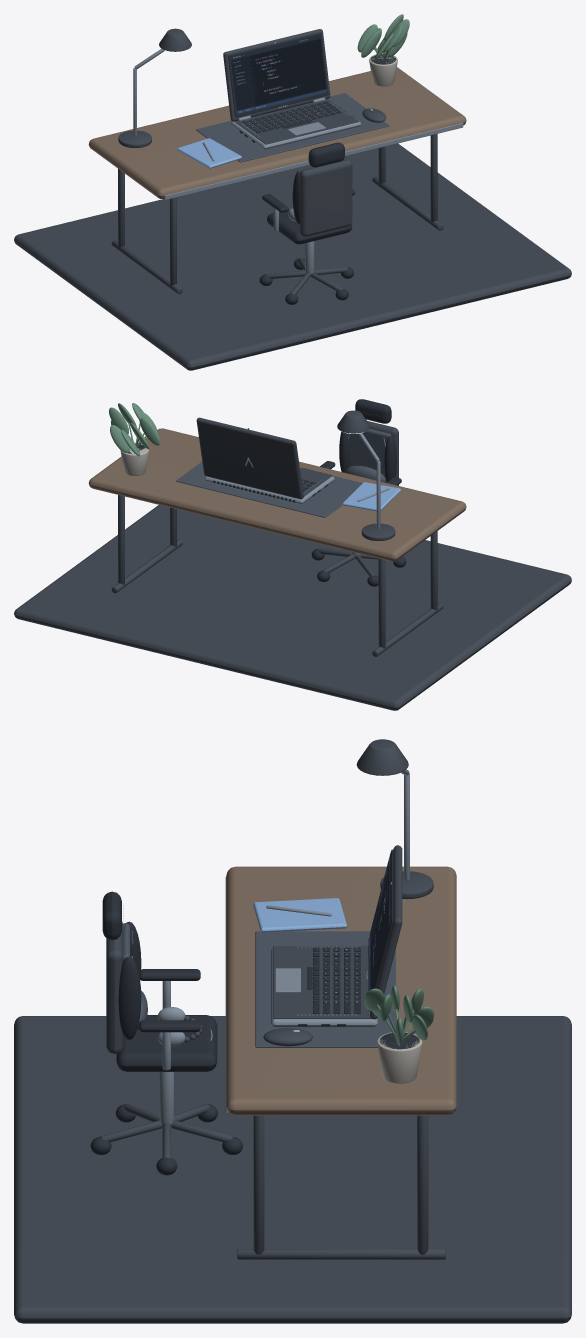
Rendered from hero-workspace.glb.
3 views of the same model, one above another, from view 1: azimuth 30°, elevation 25°; view 2: azimuth 150°, elevation 25°; view 3: azimuth 270°, elevation 25° (orthographic). The views are drawn at different scales.
Visible parts, largest first — view 1: Web batch - Graphite powder coat, Walnut desktop, Laptop screen, Web batch - Soft charcoal, Web batch - Brushed alloy, Web batch - Slate desk mat, Web batch - Sage leaves, Notebook, Plant pot; view 2: Web batch - Graphite powder coat, Walnut desktop, Web batch - Slate desk mat, Web batch - Soft charcoal, Web batch - Sage leaves, Web batch - Brushed alloy, Notebook, Plant pot; view 3: Web batch - Graphite powder coat, Walnut desktop, Web batch - Soft charcoal, Web batch - Slate desk mat, Web batch - Brushed alloy, Notebook, Web batch - Sage leaves, Laptop screen, Plant pot.
Boxes of the visible parts, left/top/right/bottom form: Web batch - Graphite powder coat: left=14, top=28, right=571, bottom=370; Walnut desktop: left=88, top=67, right=466, bottom=198; Laptop screen: left=230, top=34, right=326, bottom=113; Web batch - Soft charcoal: left=228, top=32, right=396, bottom=304; Web batch - Brushed alloy: left=133, top=42, right=463, bottom=277; Web batch - Slate desk mat: left=196, top=93, right=389, bottom=171; Web batch - Sage leaves: left=357, top=14, right=409, bottom=60; Notebook: left=177, top=138, right=241, bottom=168; Plant pot: left=369, top=53, right=397, bottom=86; Web batch - Graphite powder coat: left=14, top=410, right=571, bottom=710; Walnut desktop: left=88, top=428, right=466, bottom=561; Web batch - Slate desk mat: left=176, top=428, right=391, bottom=517; Web batch - Soft charcoal: left=128, top=399, right=406, bottom=586; Web batch - Sage leaves: left=109, top=403, right=159, bottom=456; Web batch - Brushed alloy: left=204, top=411, right=389, bottom=559; Notebook: left=342, top=482, right=400, bottom=511; Plant pot: left=120, top=443, right=149, bottom=476; Web batch - Graphite powder coat: left=14, top=739, right=571, bottom=1323; Walnut desktop: left=226, top=866, right=456, bottom=1115; Web batch - Soft charcoal: left=90, top=849, right=419, bottom=1175; Web batch - Slate desk mat: left=122, top=923, right=395, bottom=1047; Web batch - Brushed alloy: left=123, top=769, right=409, bottom=1128; Notebook: left=253, top=898, right=346, bottom=932; Web batch - Sage leaves: left=364, top=985, right=434, bottom=1045; Laptop screen: left=369, top=853, right=390, bottom=990; Plant pot: left=377, top=1032, right=422, bottom=1083.
Bounding box in the file's own units: 5.8 × 3.32 × 4.6.
11 materials, 1 textured.
